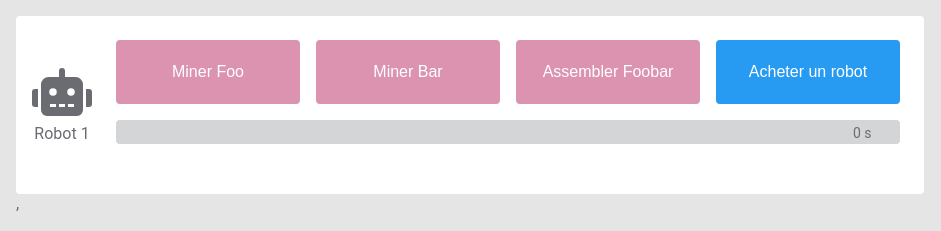
Test: RobotManager Container › Behaviour › should display success message and icon after Acheter un robot activity is over
Step 1. Click the button "Acheter un robot" → (808, 72), box [716,40,900,104]
Wait 50 ms
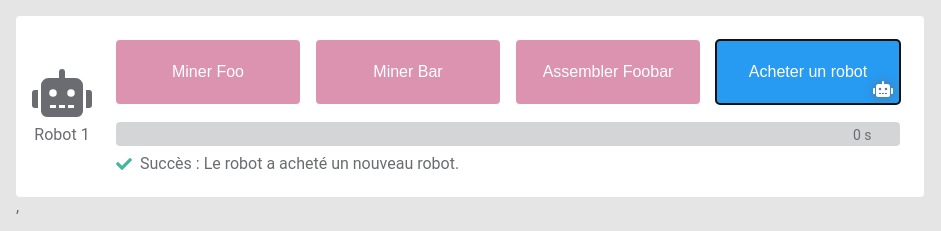
Expected: the text "Succès : Le robot a acheté un nouveau robot." is shown, [140,154,459,173]
Expected: the number of pictures is 3, [32,69,92,117]; [873,81,893,97]; [116,156,132,172]
